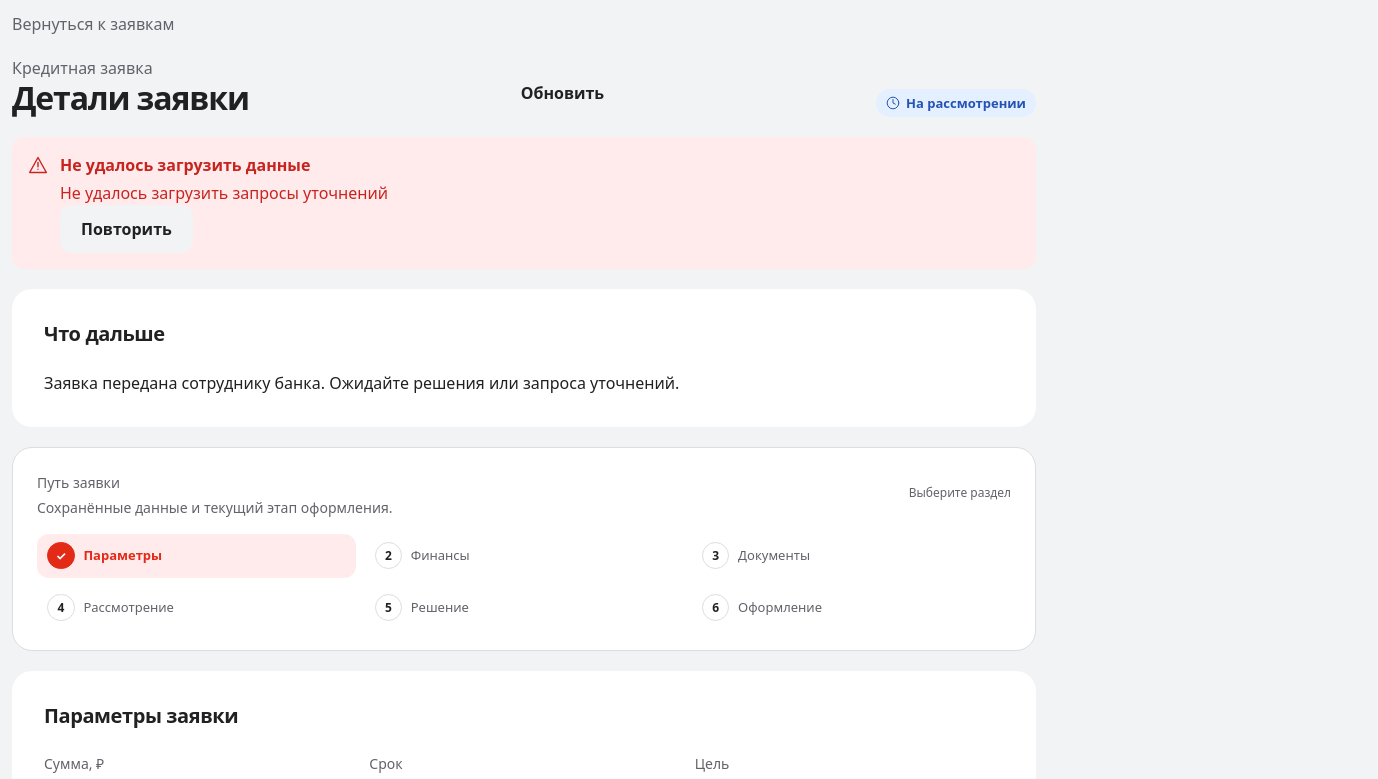
Test: exposes a failed resource and retries it
The image size is (1378, 779).
Check: the text "Не удалось загрузить запросы уточнений" is shown, box [60,181,388,205]
Click the button "Повторить" at (126, 229), box [60,205,193,253]
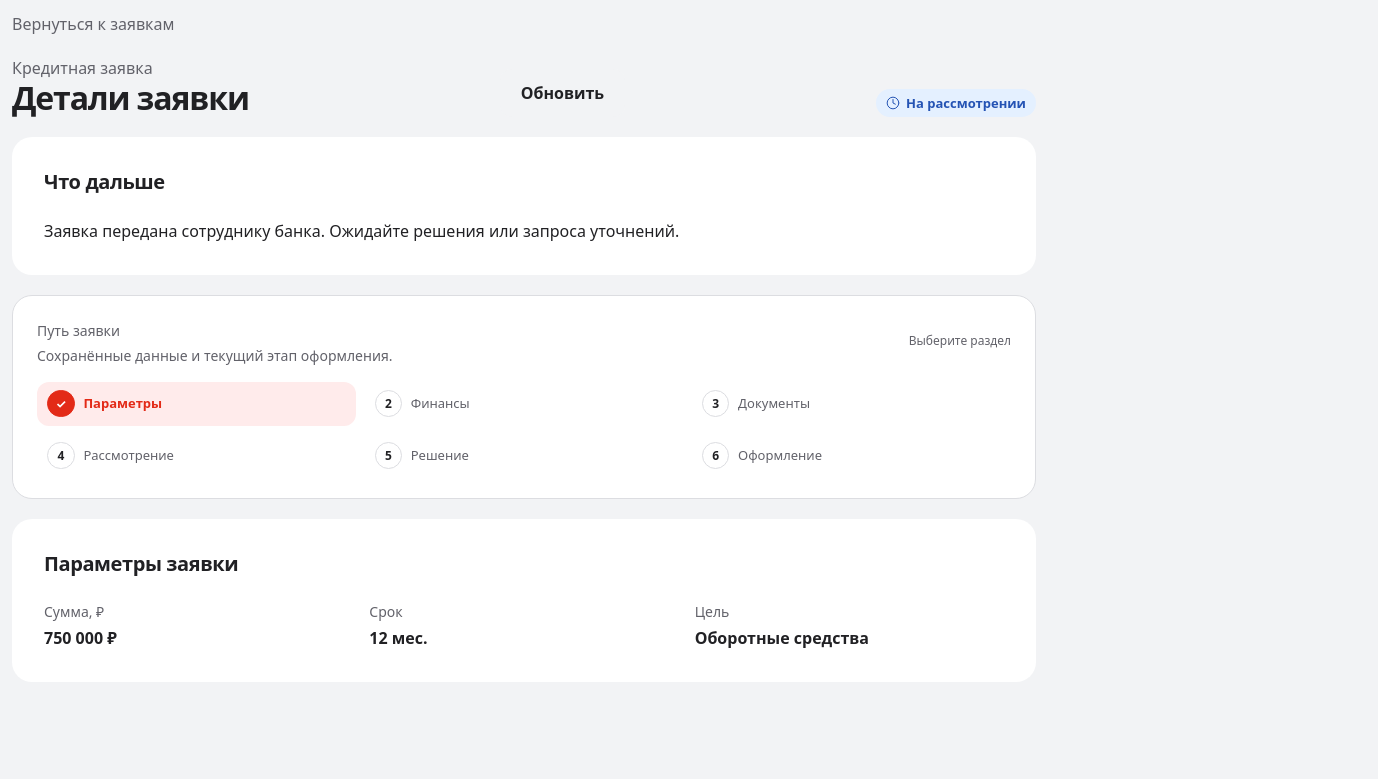
Check: the text "Не удалось загрузить запросы уточнений" is gone
